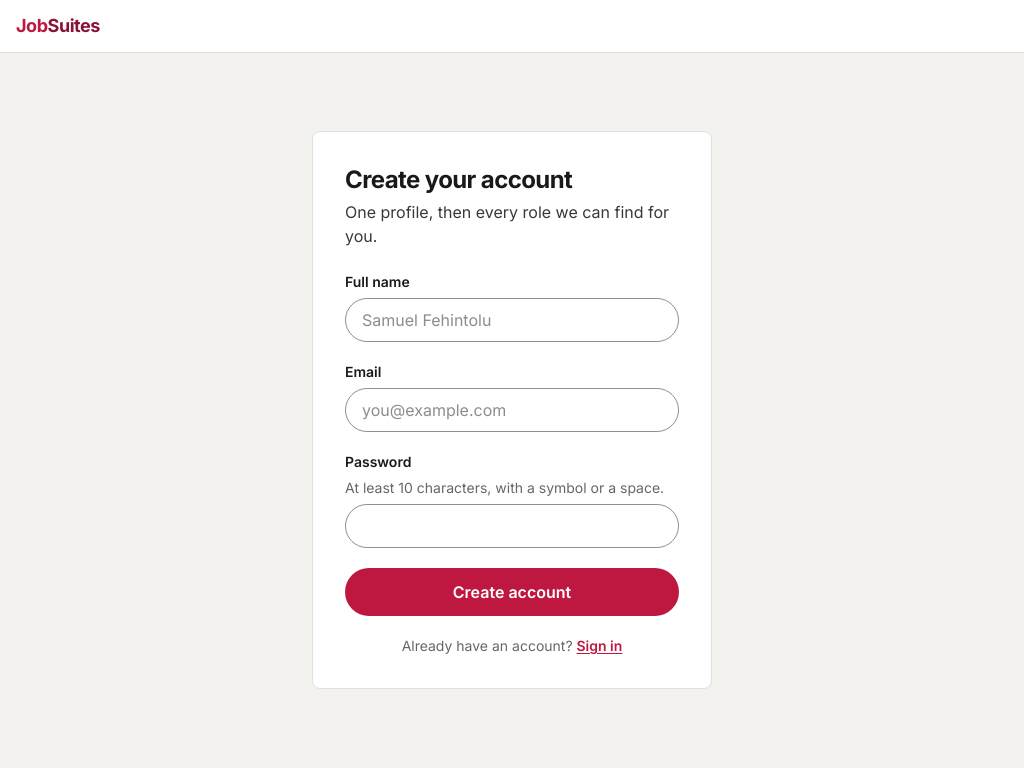
Test: SignupPage › handles a duplicate email without a dead-end
Type "Ada Lovelace" into the field labelled "Full name" at (512, 320), box [345,298,679,342]
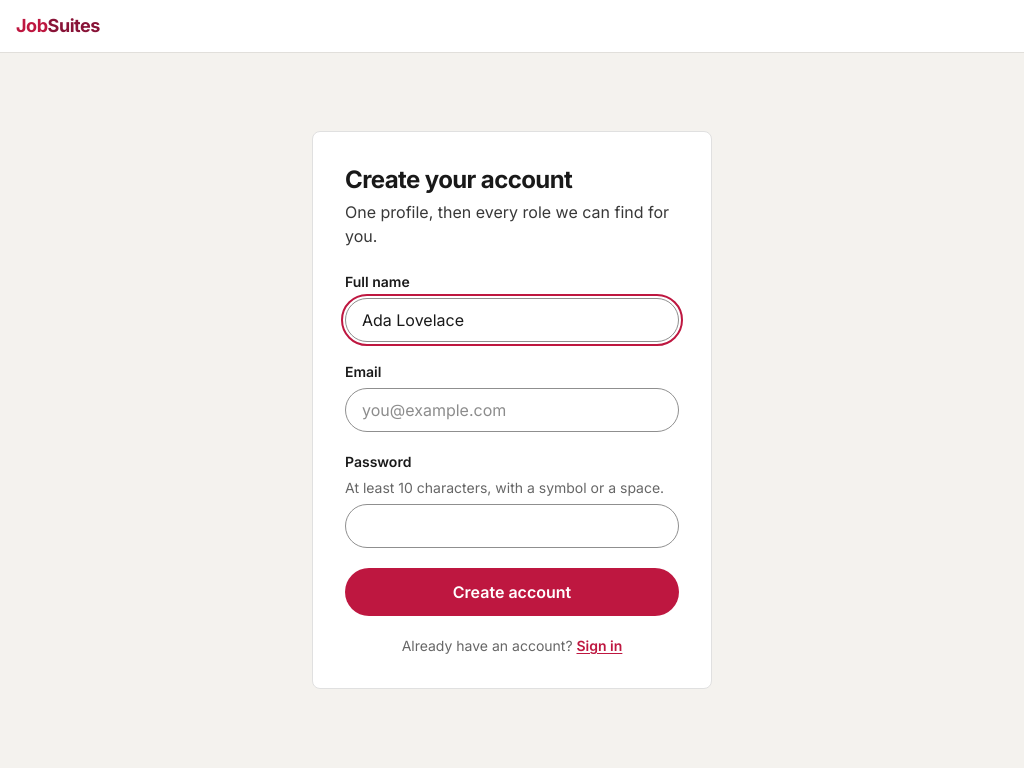
Type "ada@example.com" into the field labelled "Email" at (512, 410), box [345,388,679,432]
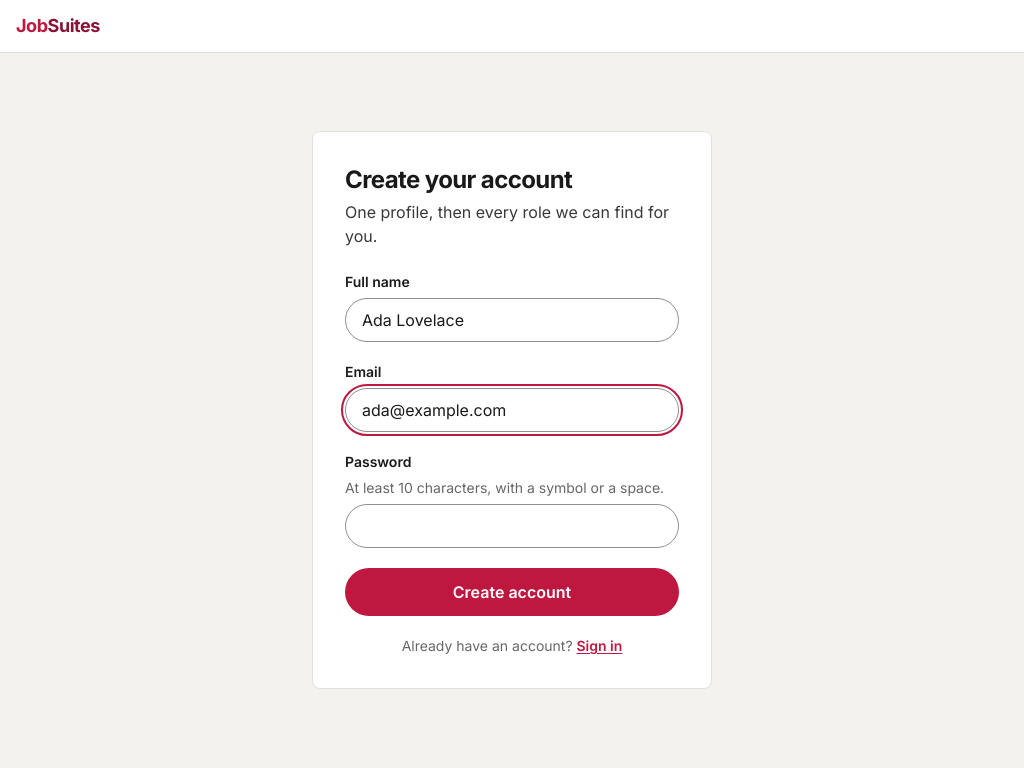
Type "good-password-1!" into the password field labelled "Password" at (512, 526), box [345,504,679,548]
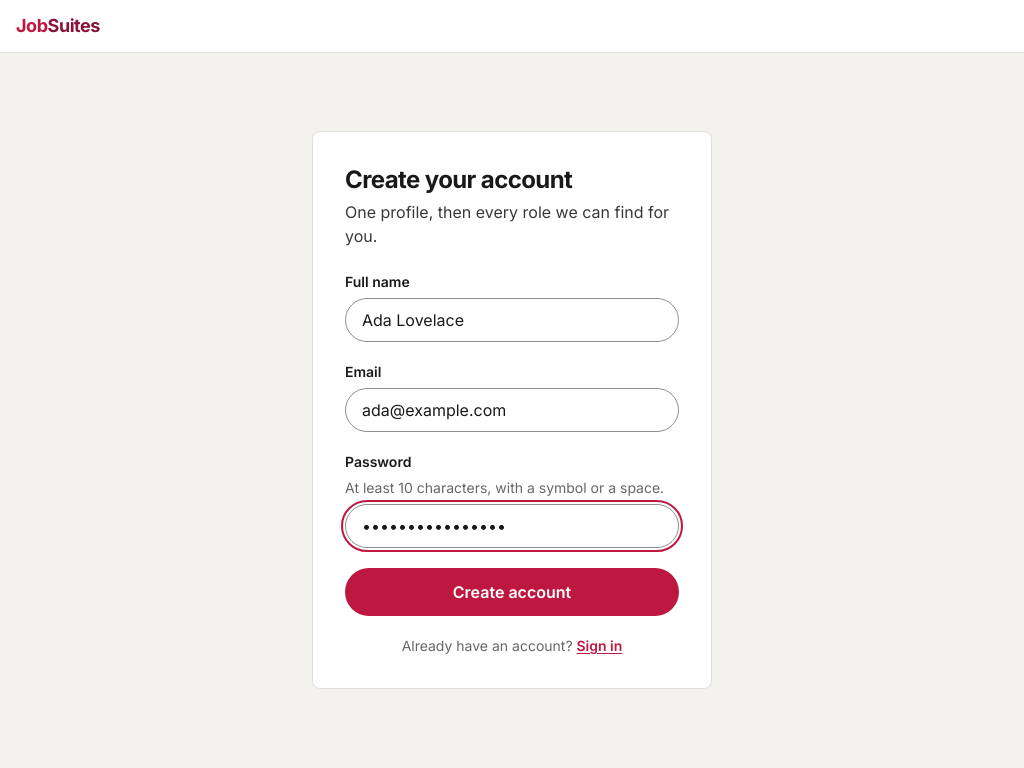
Click the button "Create account" at (512, 592), box [345,568,679,616]
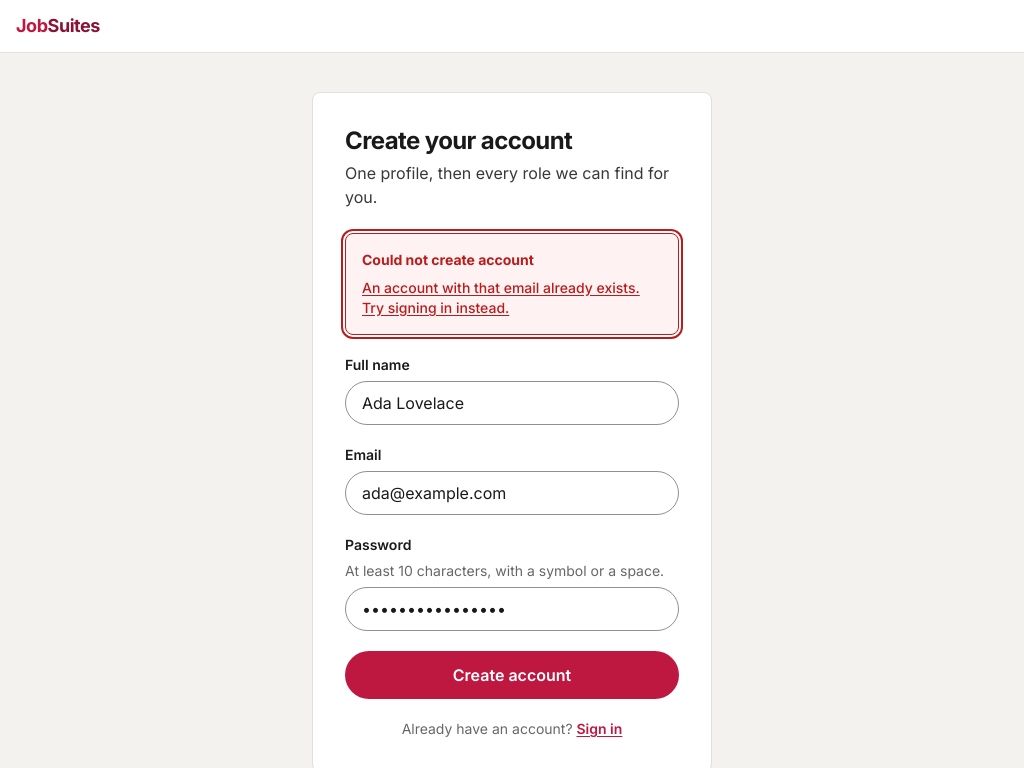
Check: the link "Sign in" is shown, box [576,720,622,737]
Check: the link "already exists" is shown, box [362,279,640,316]
